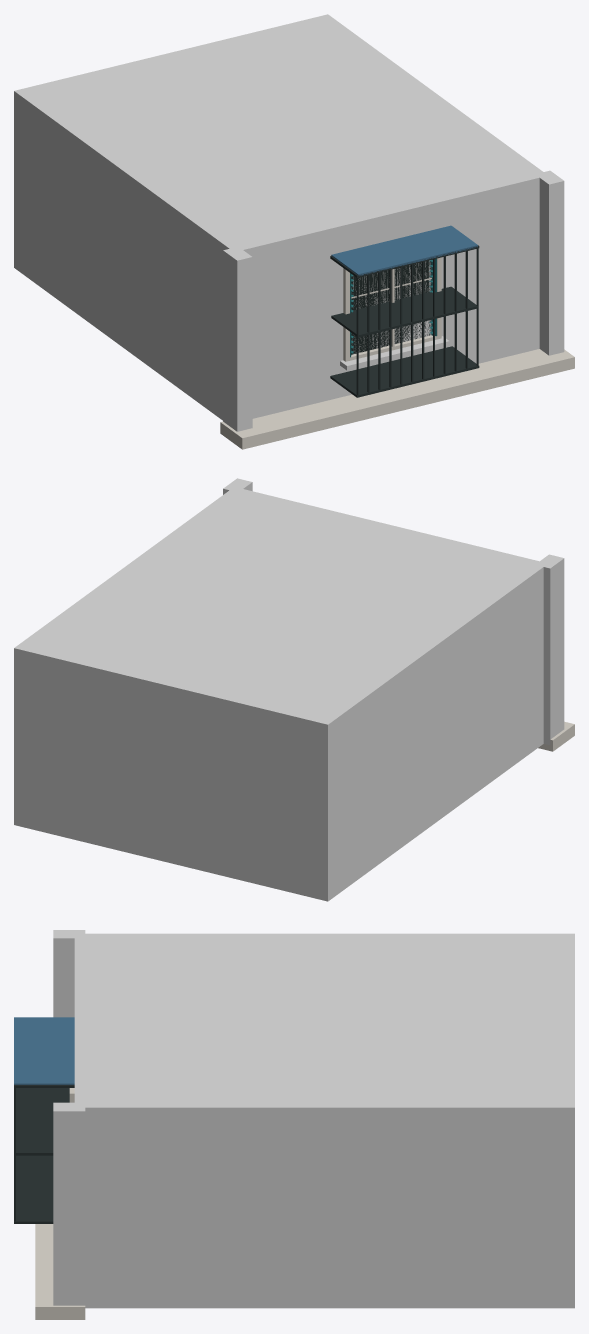
The model's file is lau_chuong_cop_60.glb.
3 renders of one model, top to bottom at view 1: azimuth 30°, elevation 25°; view 2: azimuth 150°, elevation 25°; view 3: azimuth 270°, elevation 25°, orthographic. The views are drawn at different scales.
Parts seen in each view (by area): view 1: lau_chuong_cop_60; view 2: lau_chuong_cop_60; view 3: lau_chuong_cop_60.
Part boxes in pixels (x1,y1,x2,y2): lau_chuong_cop_60: (14, 14, 574, 449); lau_chuong_cop_60: (14, 478, 574, 901); lau_chuong_cop_60: (14, 930, 574, 1319).
Size of the model in its own units: 6.1 by 3.2 by 7.85.
